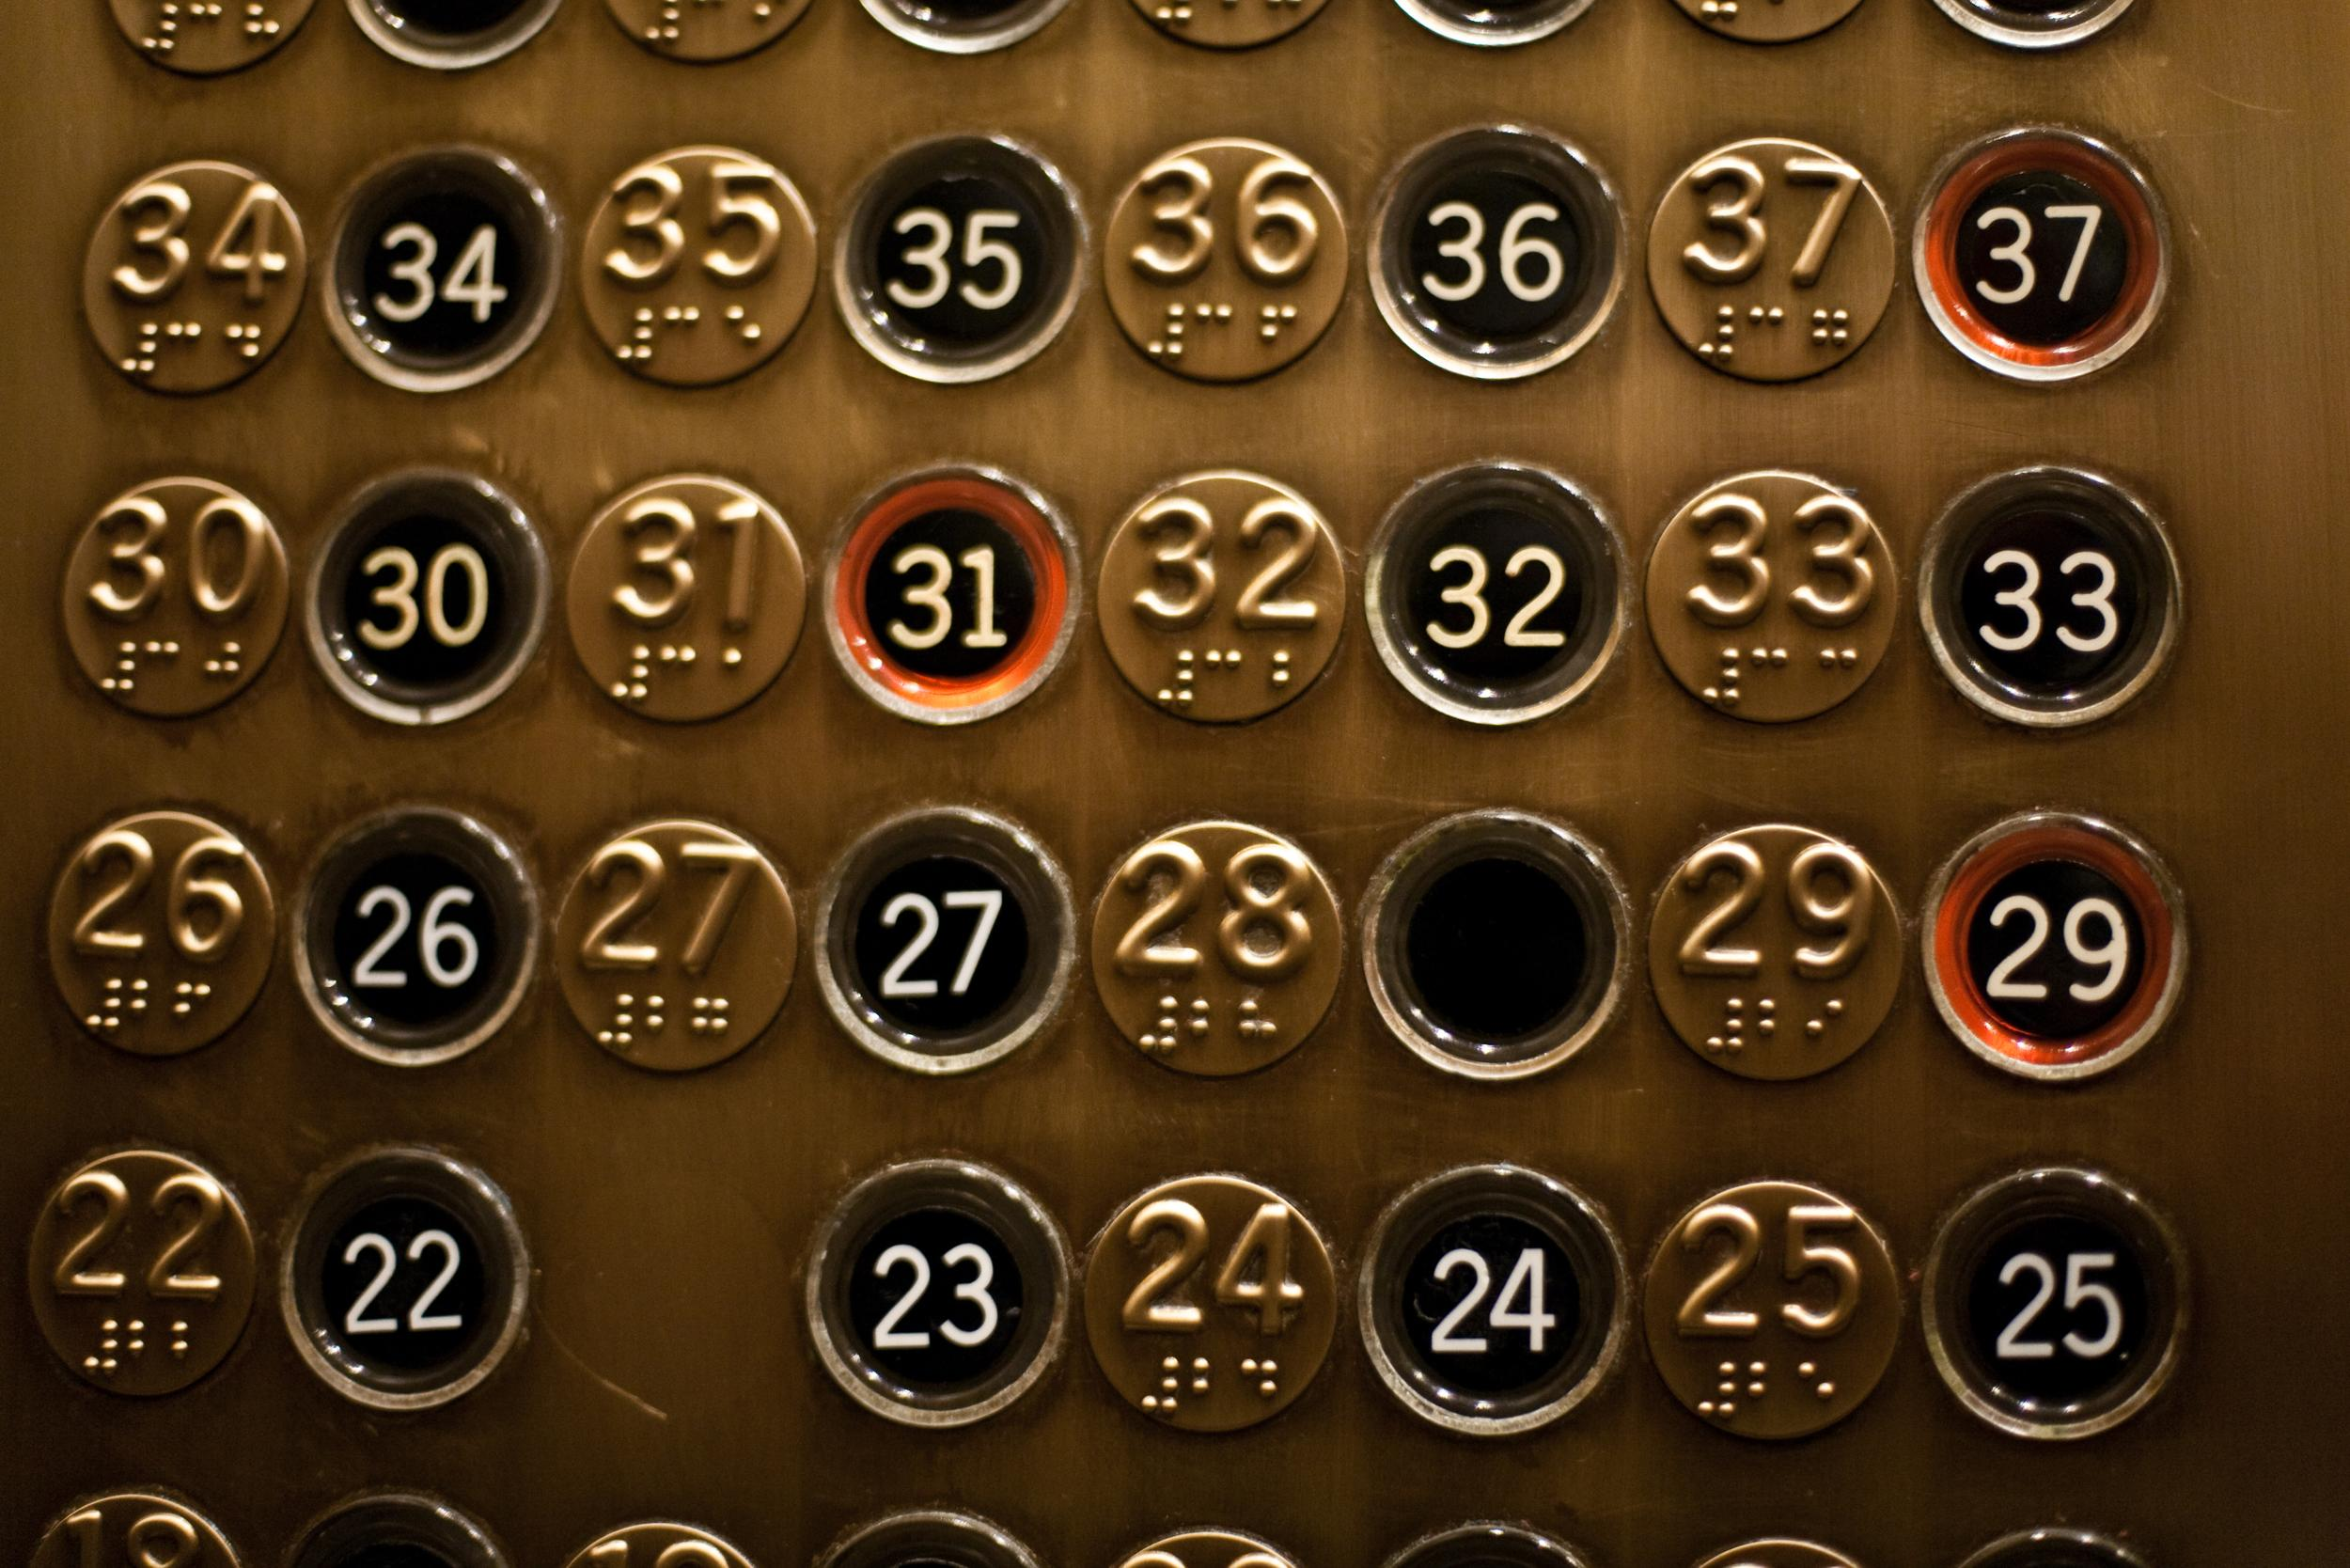button: (1641, 798, 2193, 1099), (1074, 1150, 1631, 1445), (1638, 1150, 2193, 1445), (1090, 458, 1641, 744), (1099, 114, 1638, 402), (542, 800, 1083, 1087), (1641, 460, 2193, 738), (1641, 112, 2184, 394), (21, 1134, 539, 1423), (565, 453, 1092, 735), (56, 448, 553, 735), (35, 798, 542, 1076), (577, 133, 1092, 394), (75, 140, 572, 399)
